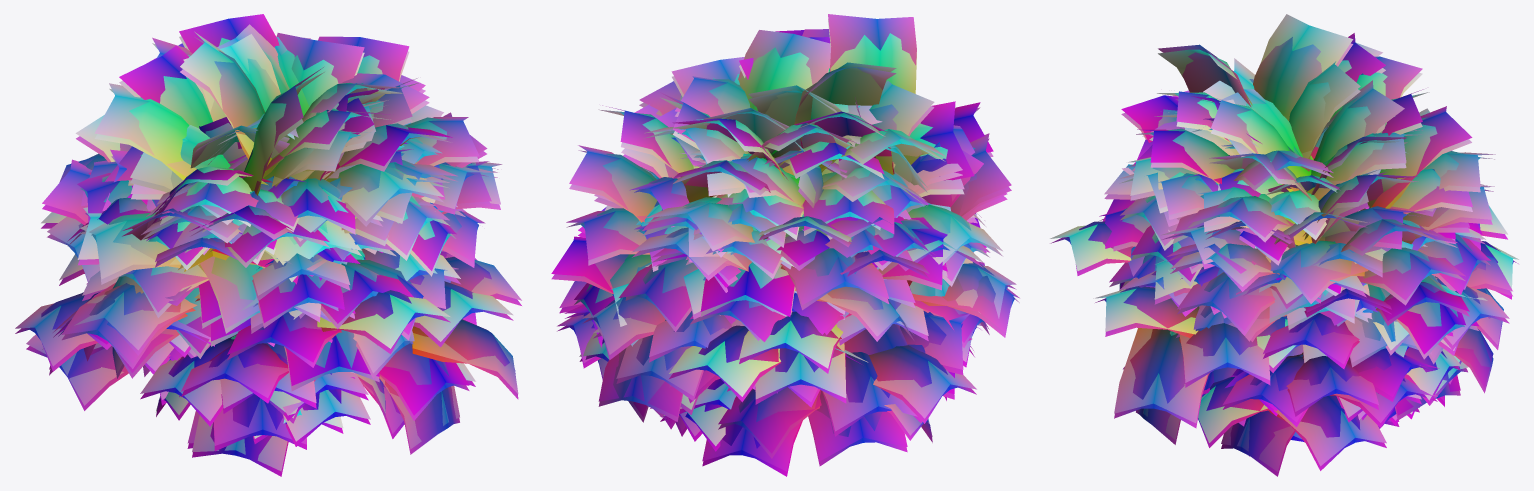
Rendered from elm_02_2.fbx.
3 renders of one model, left to right at view 1: azimuth 30°, elevation 25°; view 2: azimuth 150°, elevation 25°; view 3: azimuth 270°, elevation 25°, orthographic. The views are drawn at different scales.
Parts seen in each view (by area): view 1: elm_rought_leaves_02_2_shadow, elm_rought_leaves_02_2_lod_0; view 2: elm_rought_leaves_02_2_shadow, elm_rought_leaves_02_2_lod_0; view 3: elm_rought_leaves_02_2_shadow, elm_rought_leaves_02_2_lod_0.
Part boxes in pixels (x1=…): elm_rought_leaves_02_2_shadow: x1=15, y1=14, x2=521, y2=471; elm_rought_leaves_02_2_lod_0: x1=15, y1=36, x2=521, y2=476; elm_rought_leaves_02_2_shadow: x1=551, y1=14, x2=1019, y2=471; elm_rought_leaves_02_2_lod_0: x1=551, y1=19, x2=1019, y2=476; elm_rought_leaves_02_2_shadow: x1=1050, y1=14, x2=1518, y2=471; elm_rought_leaves_02_2_lod_0: x1=1050, y1=37, x2=1518, y2=476.
Size of what is drawn, in the model's own units: 11.55 by 10.84 by 12.04.
